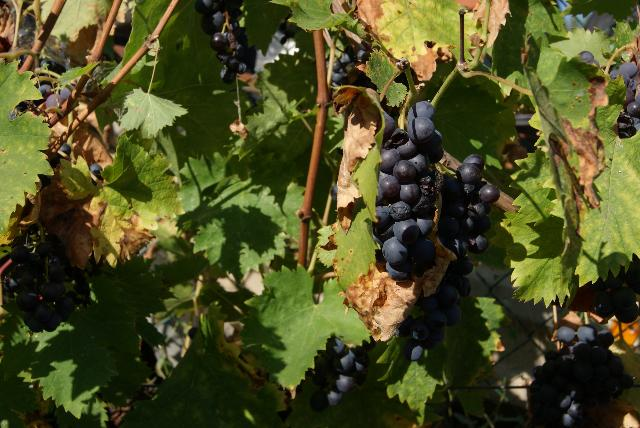grapes: (396, 154, 500, 361), (372, 101, 442, 281)
